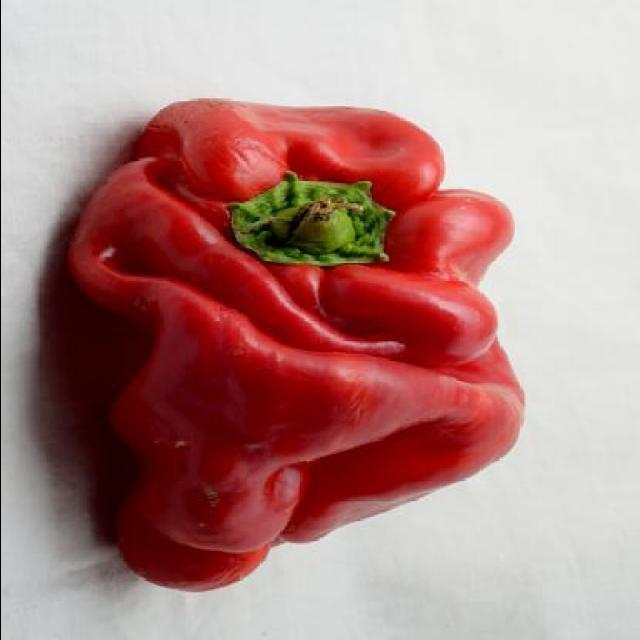Bell pepper: (57, 97, 528, 592)
